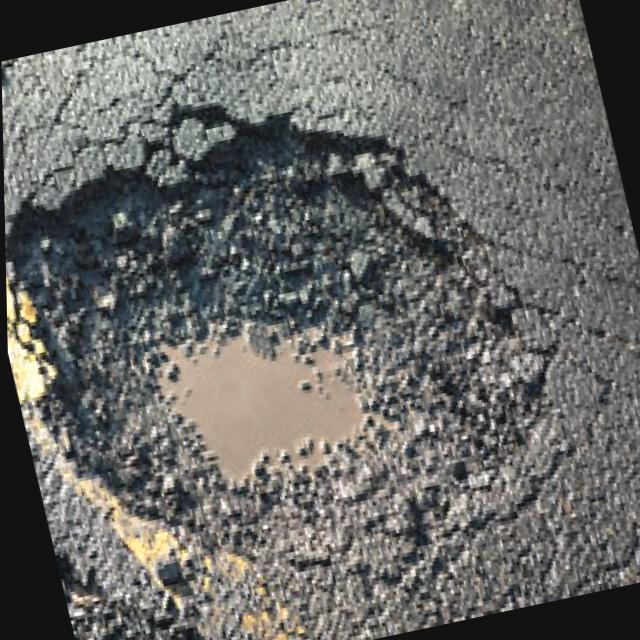Pothole: (5, 123, 510, 556)
